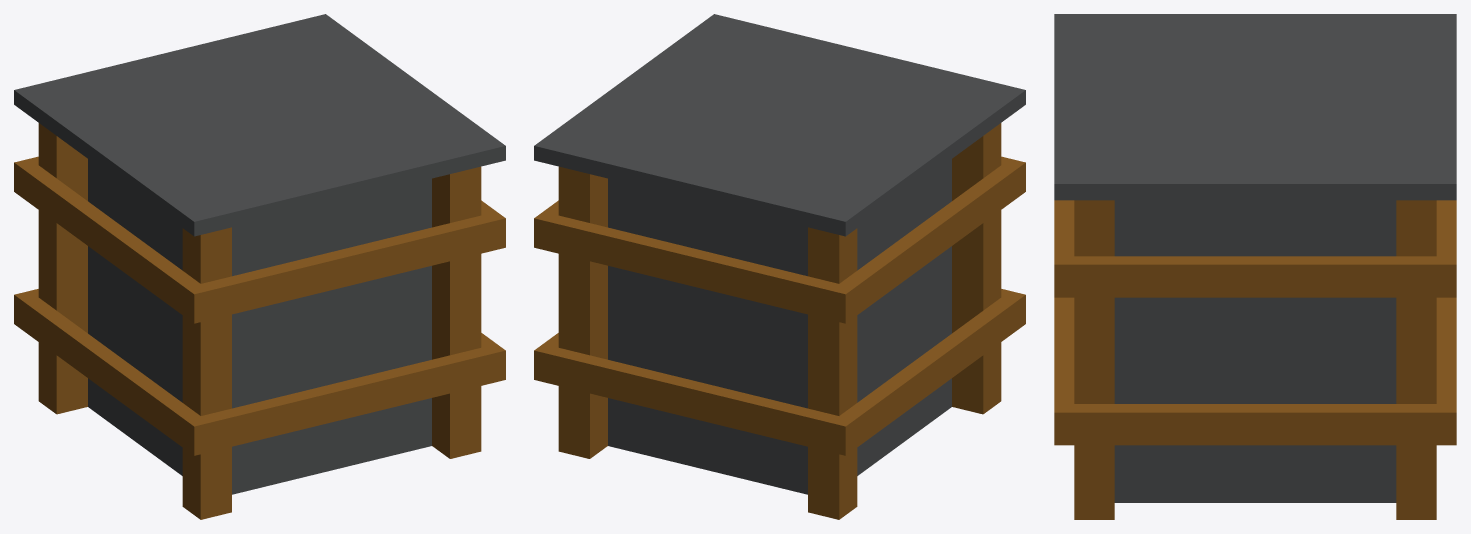
Rendered from Wall (1).fbx.
3 renders of one model, left to right at view 1: azimuth 30°, elevation 25°; view 2: azimuth 150°, elevation 25°; view 3: azimuth 270°, elevation 25°, orthographic. The views are drawn at different scales.
Parts seen in each view (by area): view 1: Wall; view 2: Wall; view 3: Wall.
Part boxes in pixels (x1,y1,x2,y2): Wall: [14, 14, 505, 519]; Wall: [534, 14, 1025, 519]; Wall: [1054, 14, 1456, 519].
Size of the model in its own units: 2.22 by 2.22 by 2.1.
